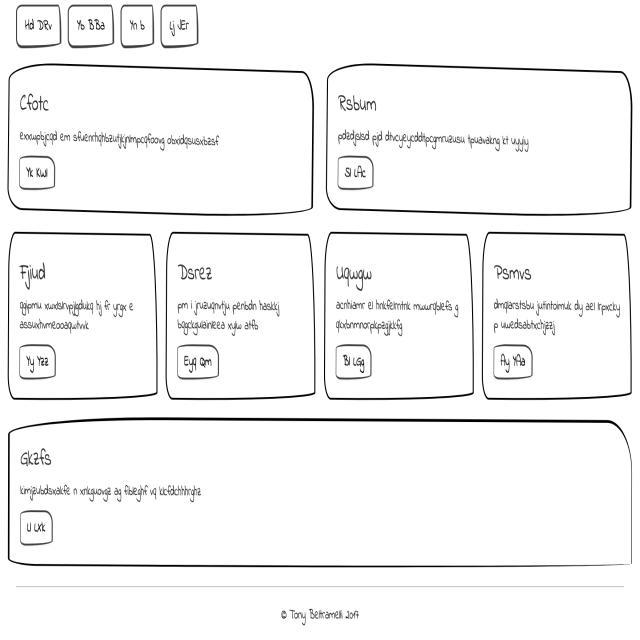Button: (330, 340, 377, 385), (334, 152, 379, 194), (491, 339, 534, 381), (19, 150, 56, 194), (175, 342, 220, 378), (18, 342, 58, 382), (18, 506, 54, 544)
Card: (7, 417, 633, 572), (5, 61, 317, 216), (325, 66, 631, 220), (479, 227, 633, 405), (322, 227, 476, 400), (163, 229, 318, 399), (7, 232, 159, 399)
Footer: (0, 576, 640, 640)
Heading 6: (331, 256, 374, 298), (334, 90, 387, 119), (18, 256, 52, 295), (15, 442, 55, 474), (492, 261, 536, 289), (17, 88, 55, 120), (177, 257, 216, 283)
Navigation Bar: (11, 0, 200, 54)
Paragraph: (18, 121, 224, 159), (488, 295, 625, 343), (340, 122, 530, 152), (18, 476, 205, 505), (17, 296, 136, 340), (172, 291, 286, 336), (333, 298, 461, 338)
